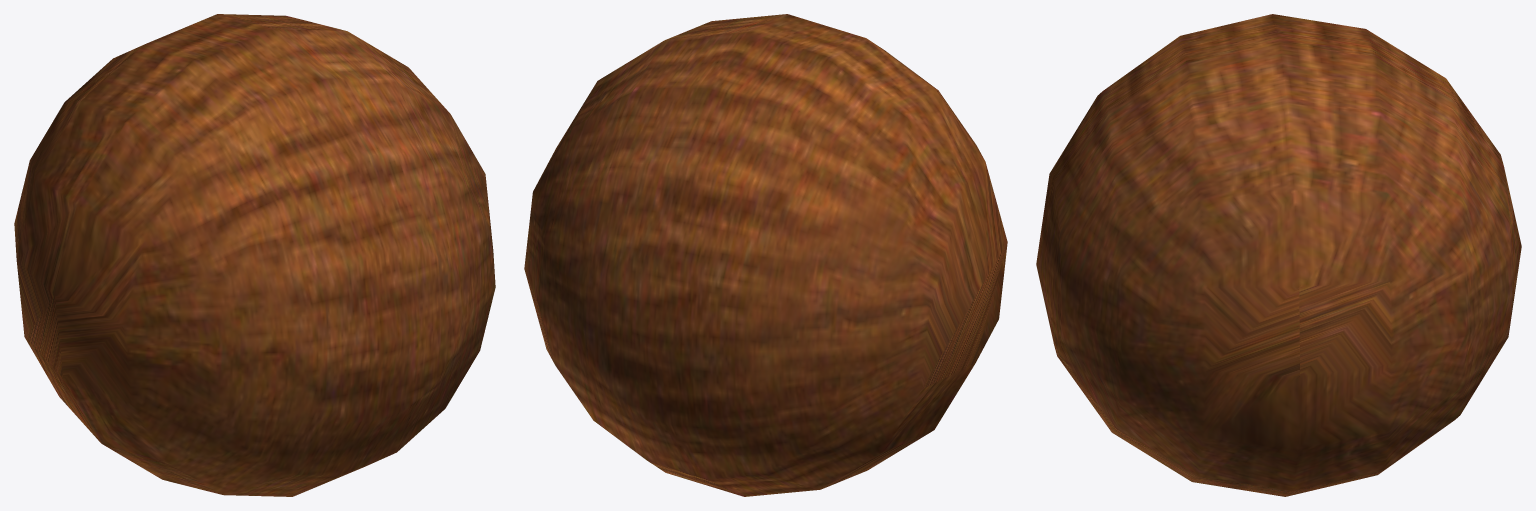
The model's file is ball.fbx.
3 renders of one model, left to right at view 1: azimuth 30°, elevation 25°; view 2: azimuth 150°, elevation 25°; view 3: azimuth 270°, elevation 25°, orthographic.
Visible parts, largest first — view 1: ball; view 2: ball; view 3: ball.
Part boxes in pixels (bbox=[...]): ball: bbox=[14, 14, 495, 496]; ball: bbox=[524, 14, 1007, 496]; ball: bbox=[1036, 14, 1521, 496].
Bounding box in the file's own units: 10.34 × 10.38 × 10.38.
1 material, 1 textured.
